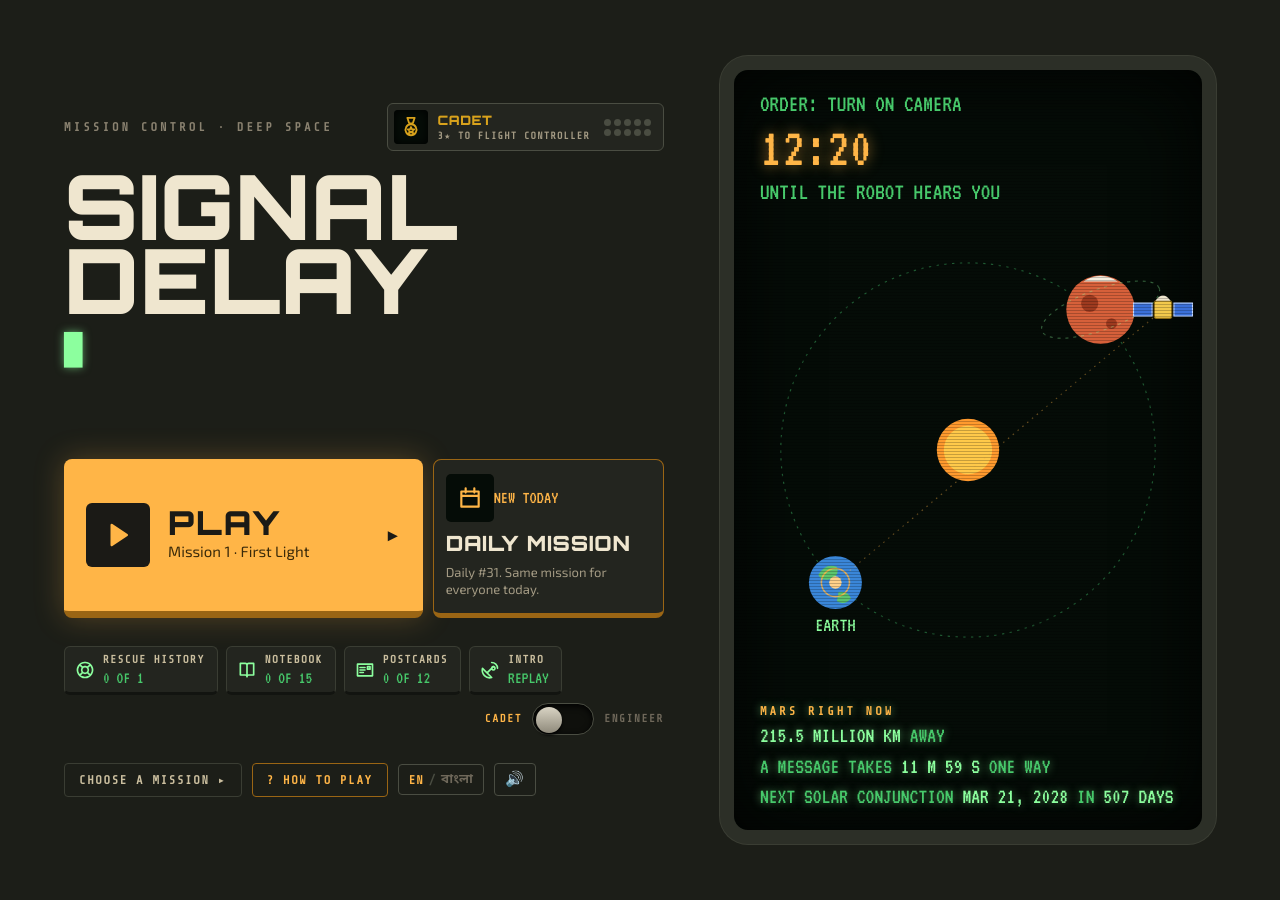
Name Your Robot › ◂ BACK returns Home
Click the button with aria-label "Play: mission" at point(243, 538), box [64,459,423,618]
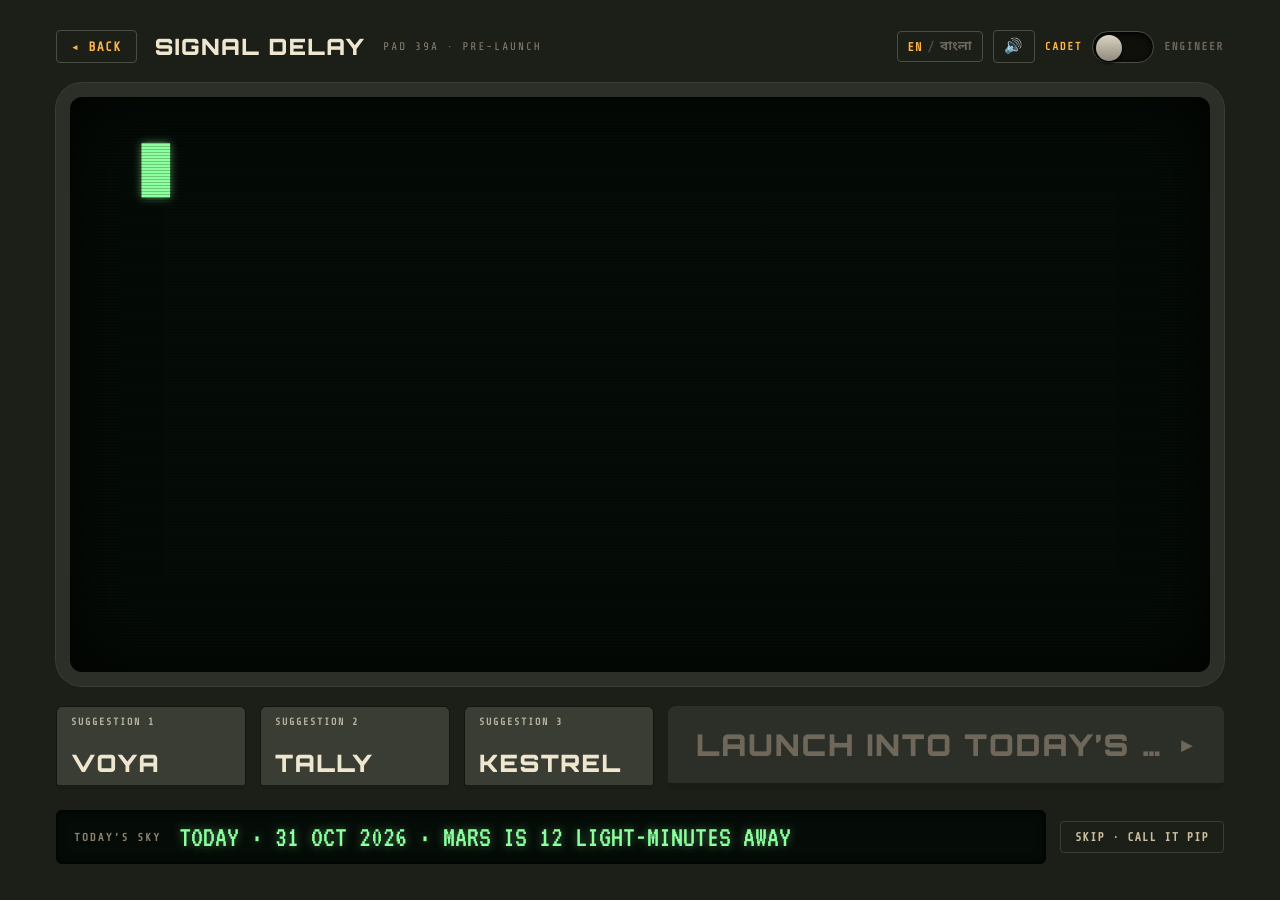
Click the button "◂ BACK" at point(96, 46), box [56,30,137,63]
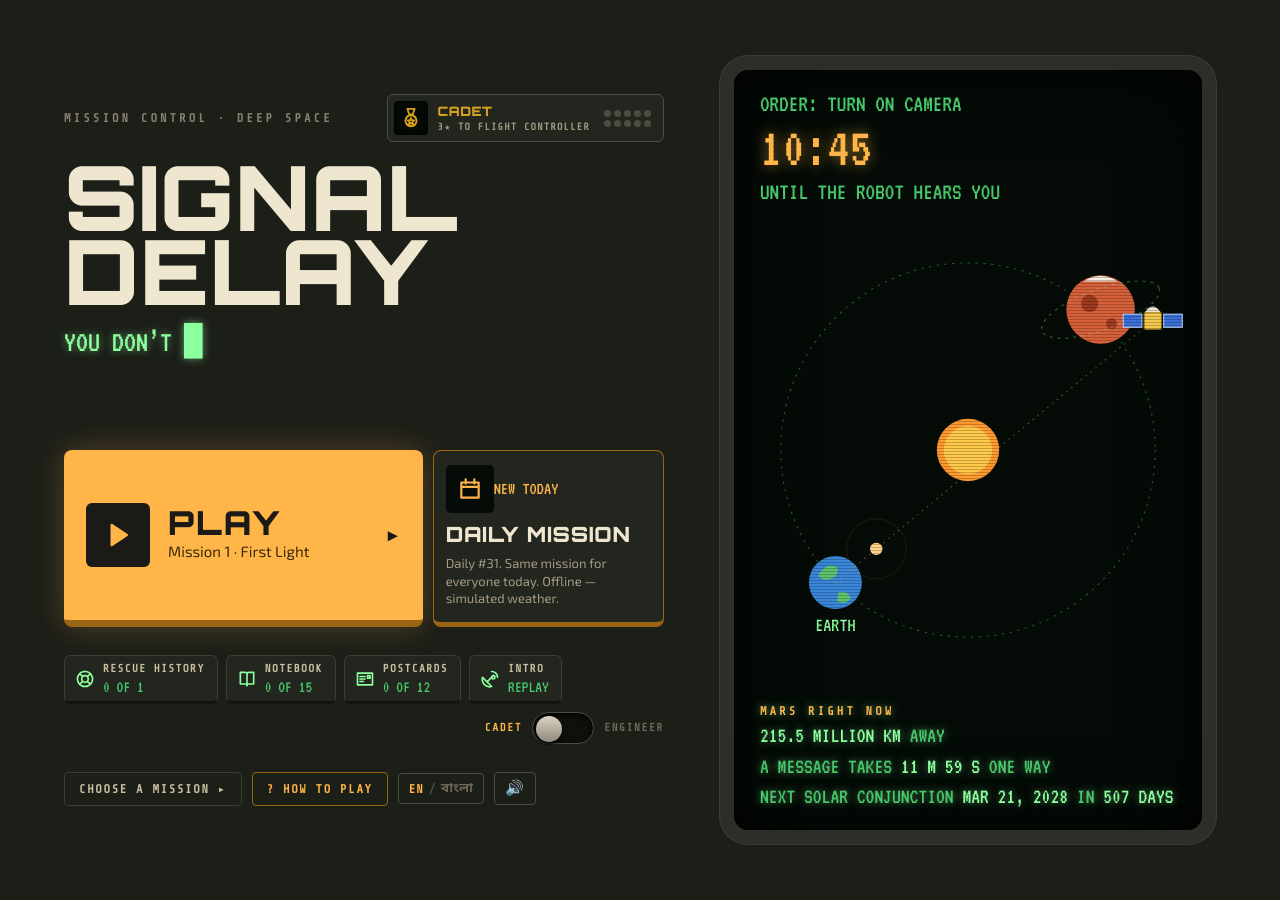
Check: the button with aria-label "Play: mission" is shown, box [64,450,423,627]
